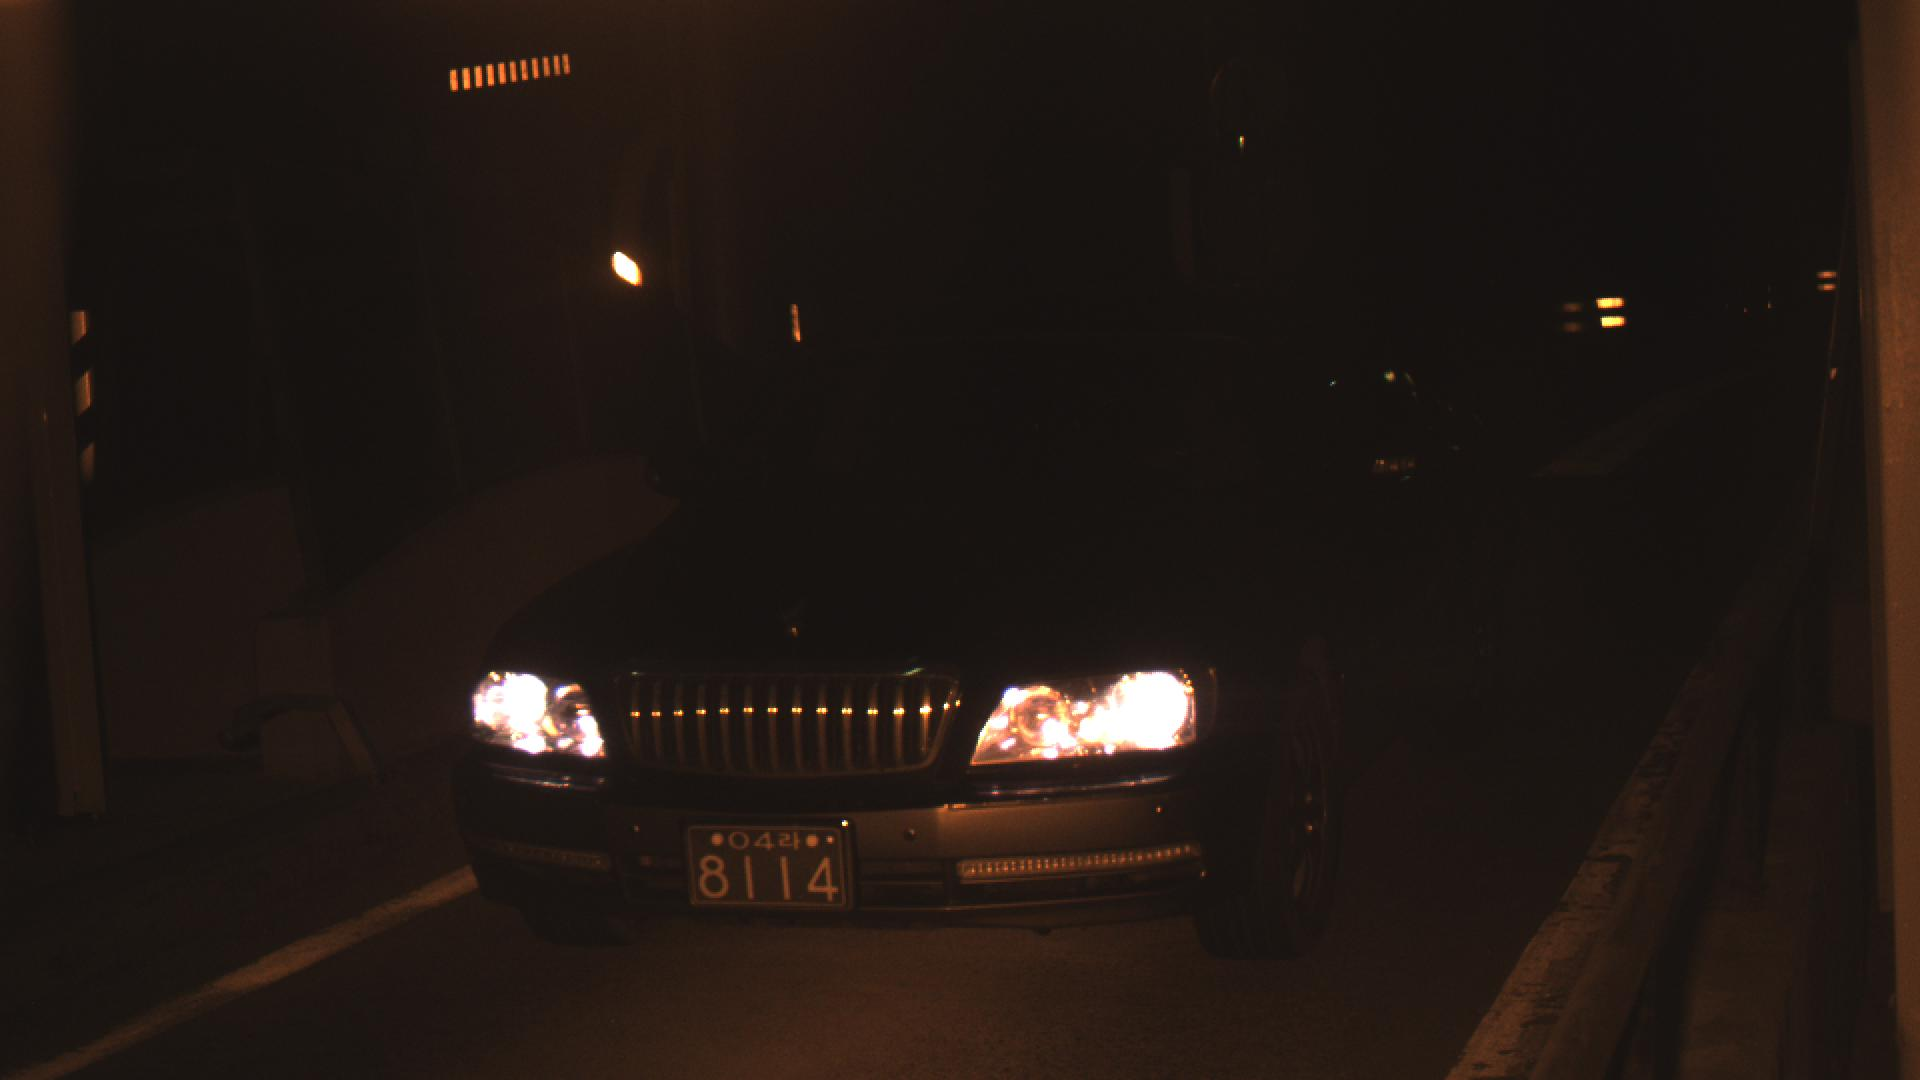car: (441, 245, 1601, 961)
plate: (679, 819, 855, 913)
